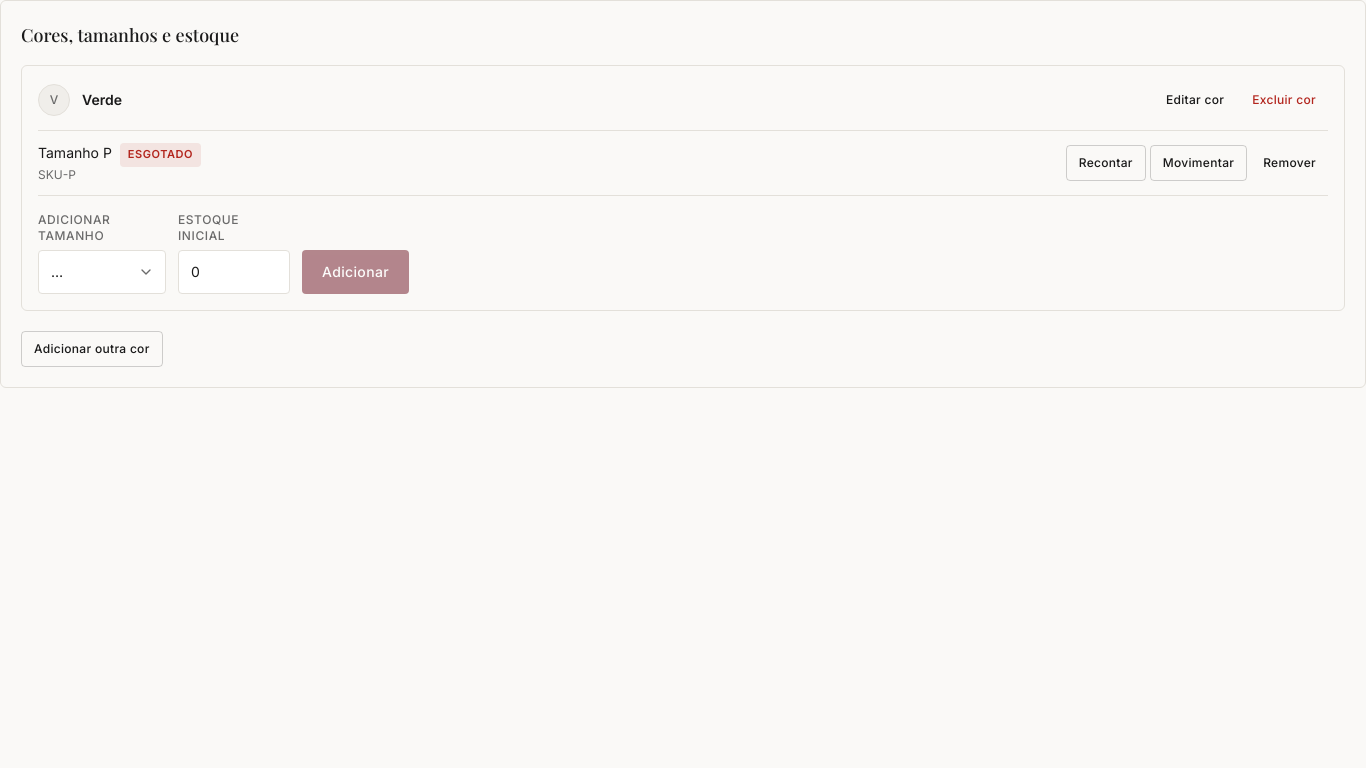
Test: ProductVariantsManager › cores › excluir cor com tamanho vendido mostra o motivo no dialogo
What coordinates should you click on to do the following:
click the button with aria-label "Excluir cor Verde"
I would click on:
 (1284, 100)
Its box is [1240, 82, 1328, 118].
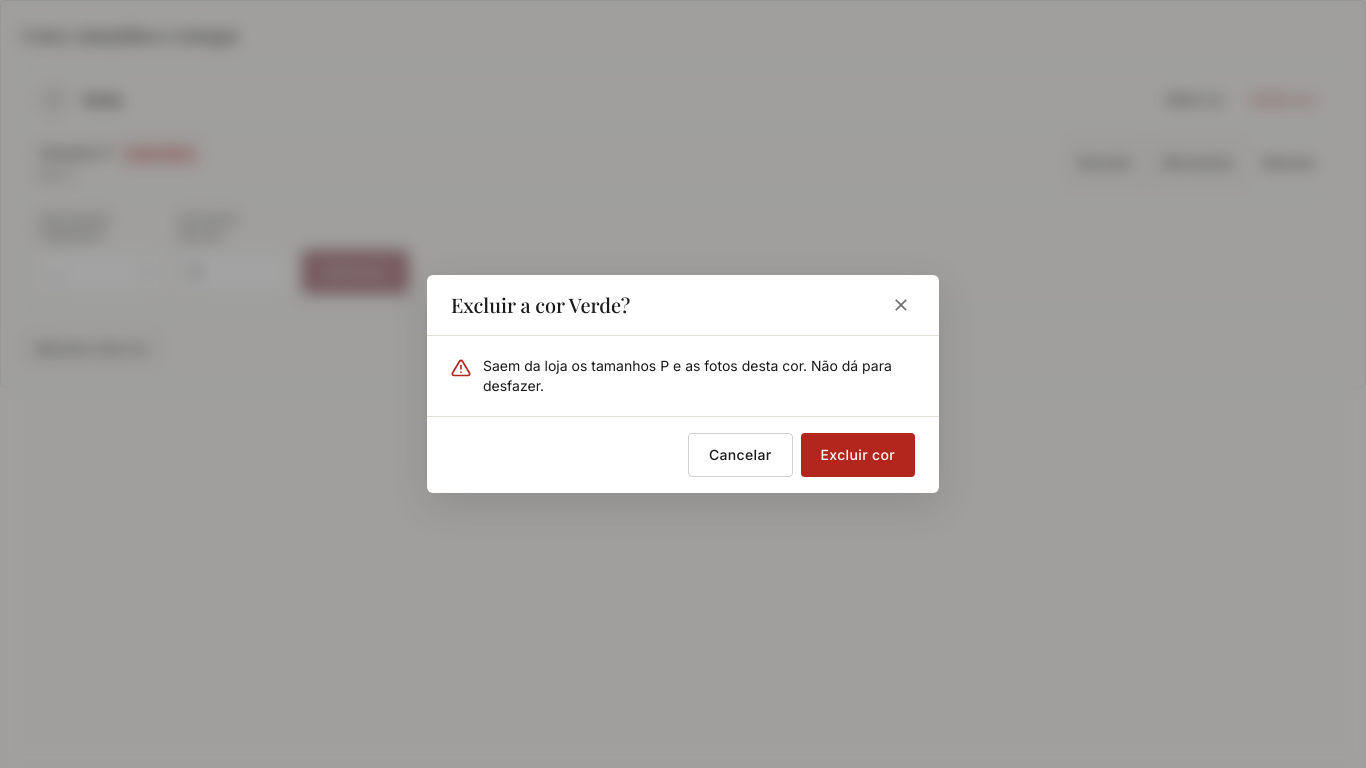
What coordinates should you click on to do the following:
click the button "Excluir cor"
I would click on:
 (858, 455)
Its box is [800, 433, 915, 477].
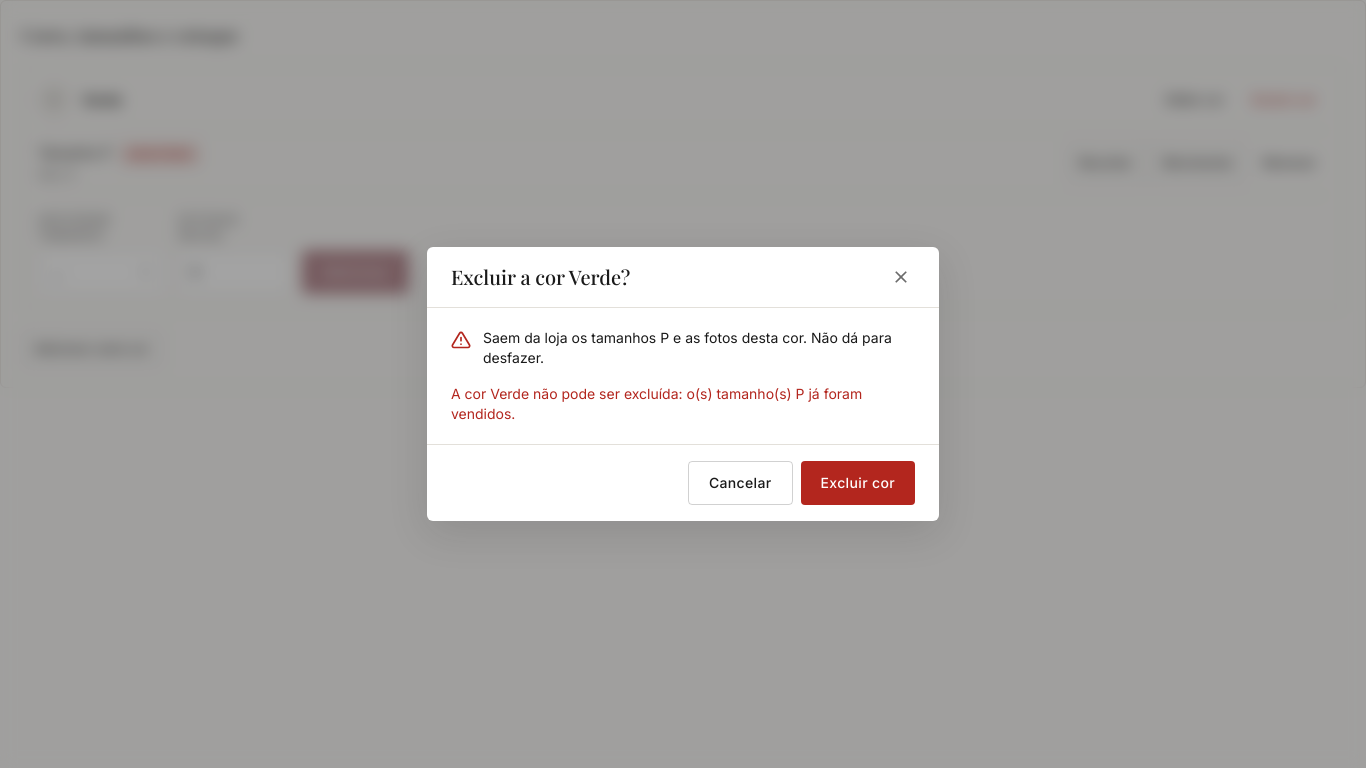
Expected: the element named "Cor Verde" is shown, [21, 65, 1345, 311]
Expected: the text "A cor Verde não pode ser excluída: o(s) tamanho(s) P já foram vendidos." is shown, [451, 384, 915, 424]
